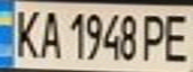1: (63, 8, 84, 60)
4: (103, 9, 124, 61)
8: (118, 11, 142, 62)
9: (81, 9, 106, 61)
A: (36, 7, 63, 60)
E: (157, 10, 193, 63)
K: (6, 4, 42, 60)
P: (139, 10, 172, 63)
